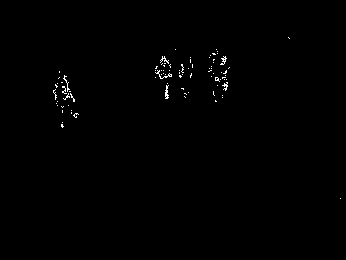person: (54, 73, 79, 127), (154, 55, 173, 99), (211, 51, 227, 99)
